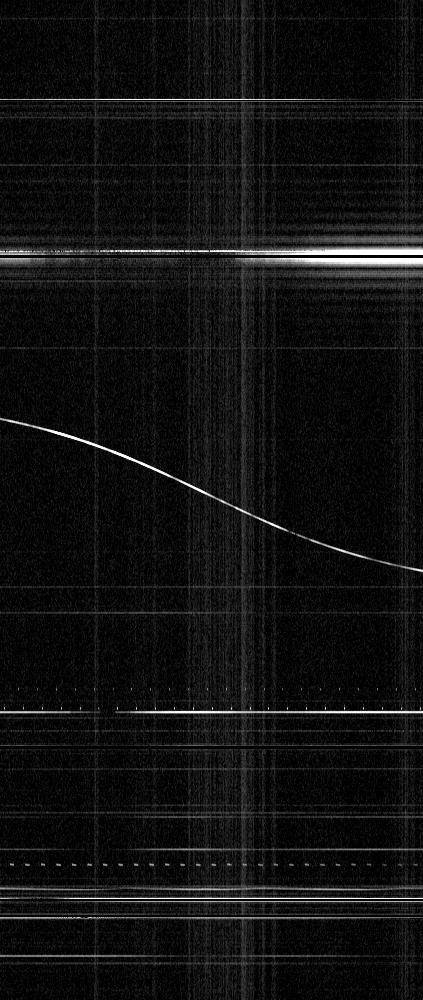signal: (0, 0, 422, 999)
